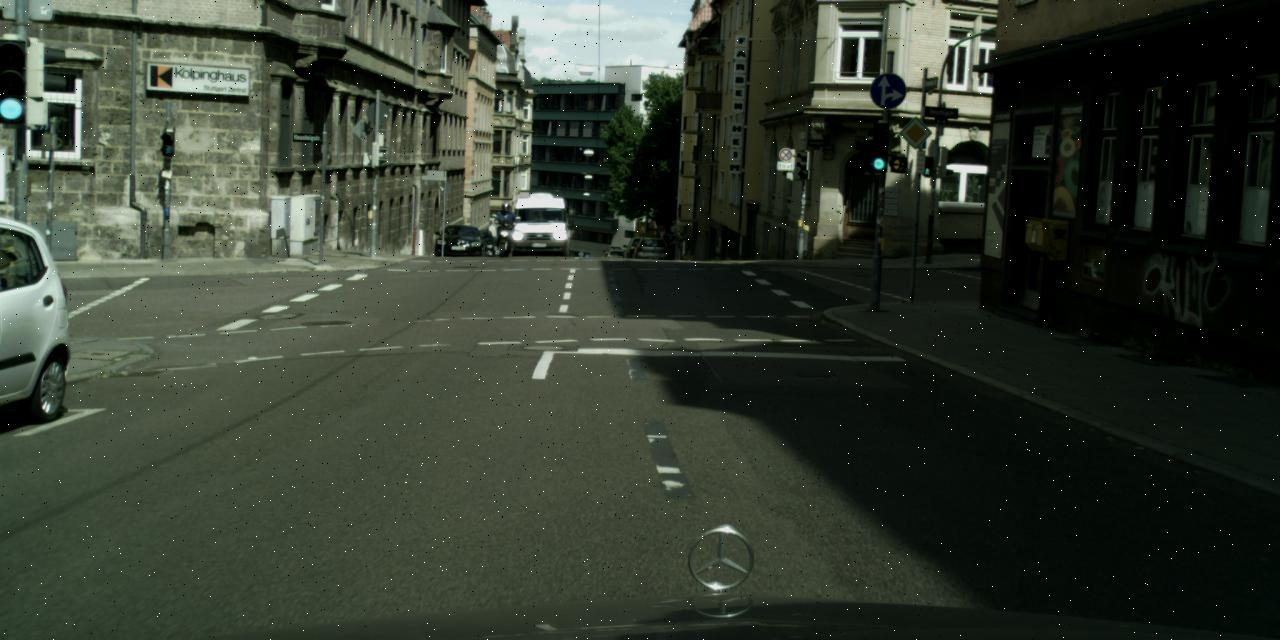ped: (495, 202, 514, 247)
